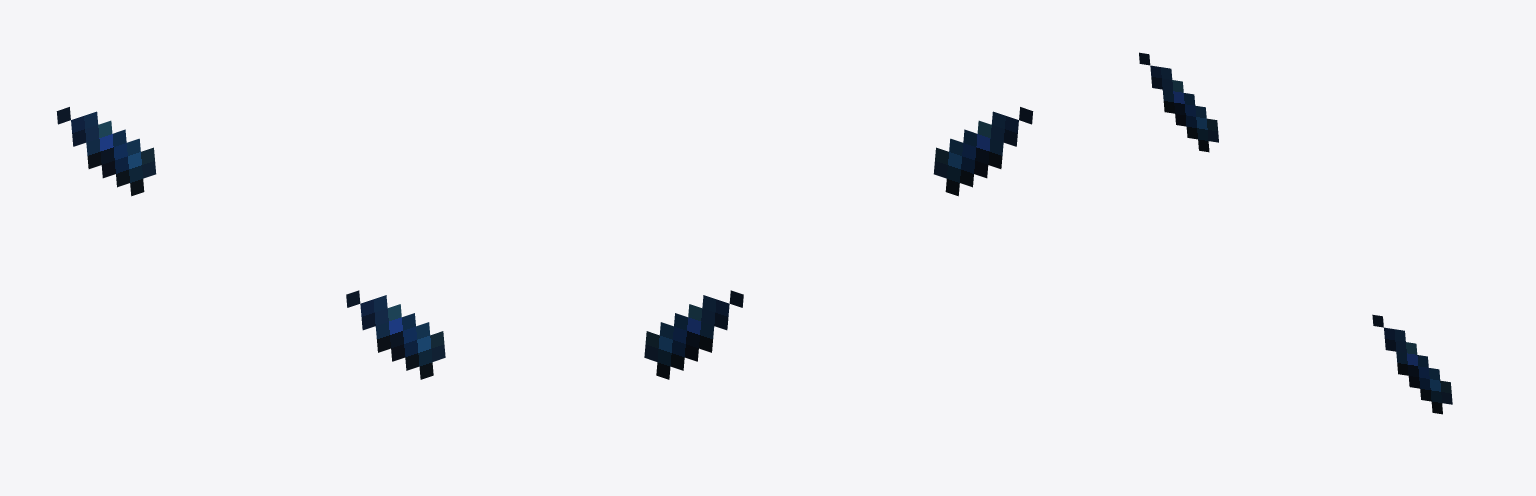
File: storms_edge.gltf
3 views of the same model, side by side, from view 1: azimuth 30°, elevation 25°; view 2: azimuth 150°, elevation 25°; view 3: azimuth 330°, elevation 25° (orthographic). The views are drawn at different scales.
Parts seen in each view (by area): view 1: cube (×2); view 2: cube (×2); view 3: cube (×2).
Boxes of the visible parts, <box> form: cube (×2): <box>56,107,445,379</box>; cube (×2): <box>644,107,1033,379</box>; cube (×2): <box>1139,52,1452,414</box>.
Size of the model in its own units: 0.7694 by 0.7001 by 6.25e-05.
1 material, 1 textured.
